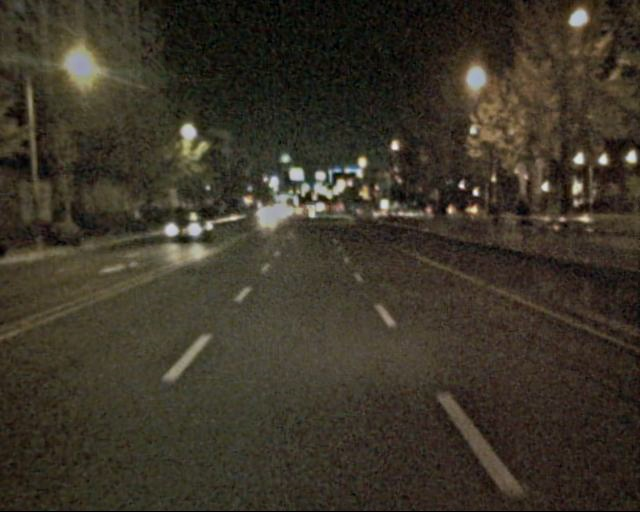person: (486, 191, 510, 239), (508, 194, 529, 246)
